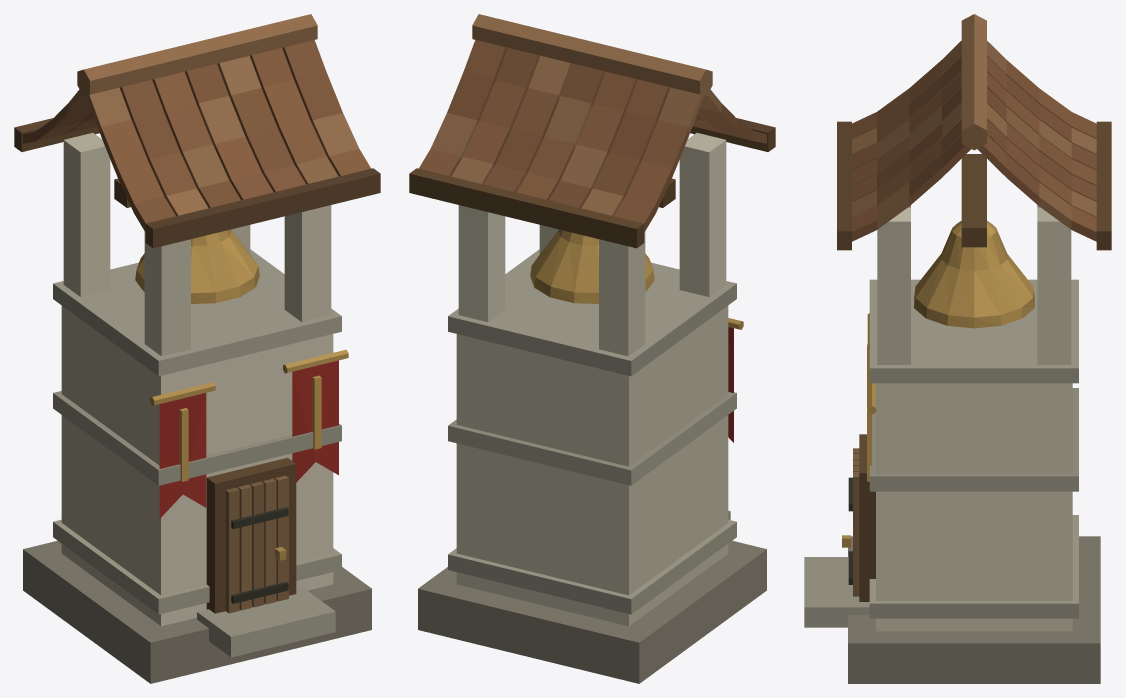
The model's file is bell-tower.glb.
3 renders of one model, left to right at view 1: azimuth 30°, elevation 25°; view 2: azimuth 150°, elevation 25°; view 3: azimuth 270°, elevation 25°, orthographic.
Visible parts, largest first — view 1: bell-tower; view 2: bell-tower; view 3: bell-tower.
Boxes of the visible parts, x1=… form: bell-tower: x1=14, y1=14, x2=380, y2=683; bell-tower: x1=409, y1=14, x2=775, y2=683; bell-tower: x1=804, y1=14, x2=1111, y2=683.
Size of the model in its own units: 1.85 by 4.41 by 2.19.
